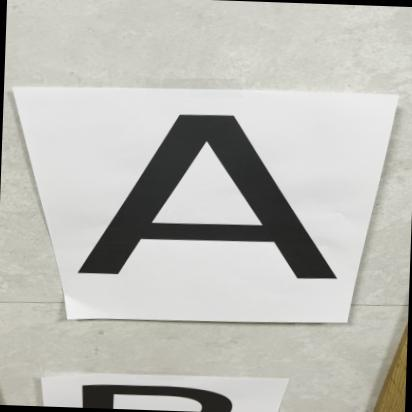seat: (69, 96, 360, 308)
